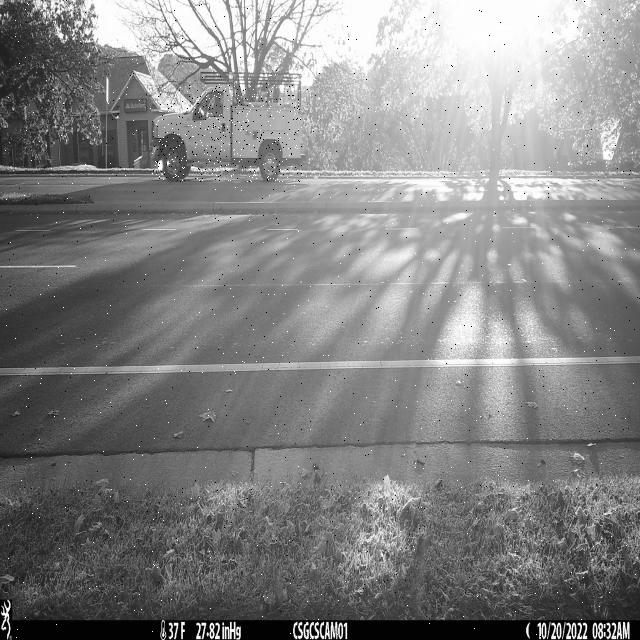Pickup- Utility: (152, 85, 302, 182)
